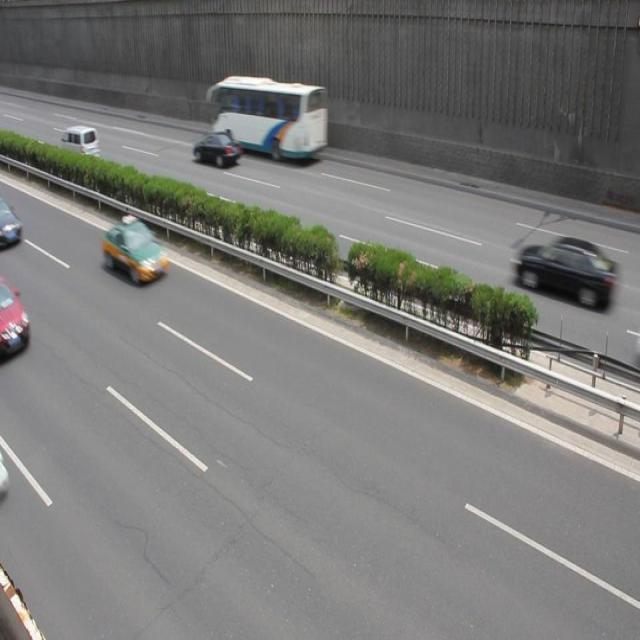car: (511, 236, 606, 308), (102, 213, 168, 286), (192, 132, 242, 168)
truck: (58, 125, 102, 170)
van: (207, 78, 328, 162)
